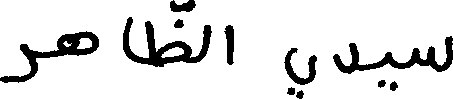ا: (122, 15, 131, 61)
د: (332, 41, 357, 74)
ر: (0, 42, 35, 83)
س: (411, 34, 450, 72)
ظ: (146, 16, 189, 67)
ل: (200, 22, 211, 59)
ه: (59, 28, 98, 55)
ي: (284, 46, 315, 98), (377, 50, 398, 91), (225, 23, 232, 65)
